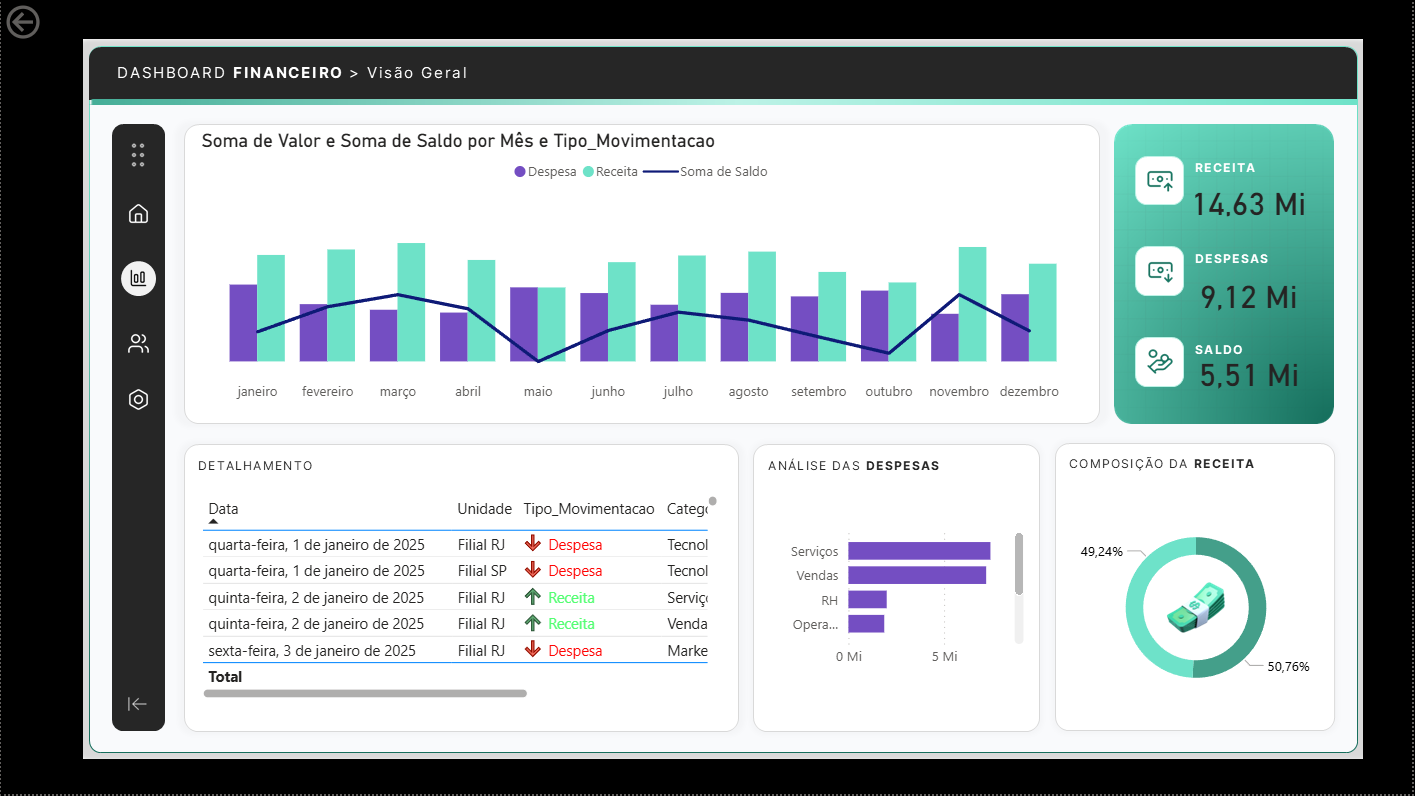

The page's visual inventory and layout, read from the dashboard file:
{"tool":"powerbi","page":{"name":"DashBoard Vendas","canvas":[1280,720],"ordinal":0},"visuals":[{"type":"lineClusteredColumnComboChart","fields":{"Category":["Extrato.Data.Variation.Hierarquia de datas.Mês","Extrato.Data.Variation.Hierarquia de datas.Dia"],"Y":["Sum(Extrato.Valor)"],"Series":["Extrato.Tipo_Movimentacao"],"Y2":["Sum(Extrato.Saldo)"]},"box":[176.8,117,811.6,255.7],"z":0},{"type":"actionButton","box":[0,0,100,40],"z":1000},{"type":"donutChart","fields":{"Category":["Extrato.Categoria"],"Y":["Sum(Extrato.Valor)"]},"box":[961.2,457,244.8,187.7],"z":2000},{"type":"tableEx","fields":{"Values":["Extrato.Data","Extrato.Unidade","Extrato.Tipo_Movimentacao","Extrato.Categoria","Extrato.Forma_Pagamento","Sum(Extrato.Valor)"]},"box":[176.8,444.3,477.9,194.1],"z":3000},{"type":"barChart","fields":{"Y":["Sum(Extrato.Valor)"],"Category":["Extrato.Categoria"]},"box":[696.4,469.7,235.8,143.3],"z":4000},{"type":"card","fields":{"Values":["Sum(Extrato.Valor)"]},"box":[1072.7,164.1,117,37.2],"z":5000},{"type":"card","fields":{"Values":["Sum(Extrato.Valor)"]},"box":[1064.6,244.8,133.3,45.3],"z":6000},{"type":"card","fields":{"Values":["Sum(Extrato.Saldo)"]},"box":[1064.6,316.5,133.3,43.5],"z":7000}]}

Visuals, with their boxes on the page's 1280x720 design canvas (x1, y1, x2, y2). These are canvas units, not pixel positions in the 1415x796 screenshot, which may show the page scaled, cropped or inside an application window:
lineClusteredColumnComboChart - Extrato.Data.Variation.Hierarquia de datas.Mês x Extrato.Data.Variation.Hierarquia de datas.Dia: detection(177, 117, 988, 373)
actionButton: detection(0, 0, 100, 40)
donutChart - Extrato.Categoria x Sum(Extrato.Valor): detection(961, 457, 1206, 645)
tableEx - Extrato.Data x Extrato.Unidade: detection(177, 444, 655, 638)
barChart - Sum(Extrato.Valor) x Extrato.Categoria: detection(696, 470, 932, 613)
card - Sum(Extrato.Valor): detection(1073, 164, 1190, 201)
card - Sum(Extrato.Valor): detection(1065, 245, 1198, 290)
card - Sum(Extrato.Saldo): detection(1065, 316, 1198, 360)
